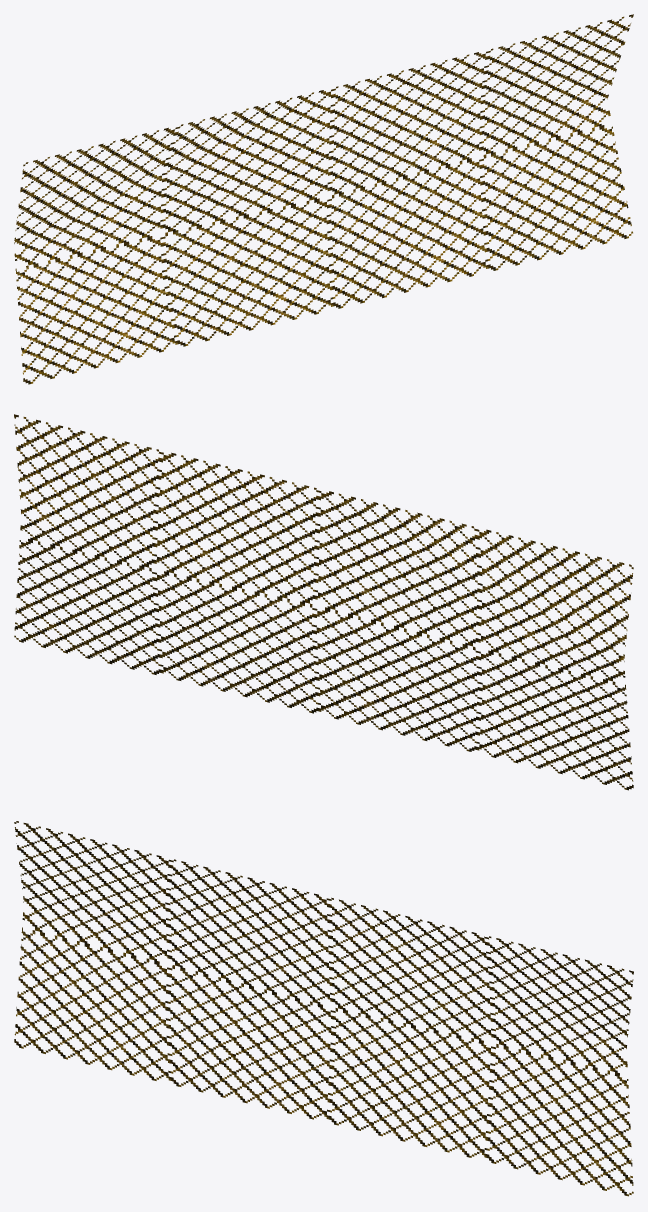
Rendered from W_A2r_xxxx_Verschoben_1835.glb.
3 views of the same model, one above another, from view 1: azimuth 30°, elevation 25°; view 2: azimuth 150°, elevation 25°; view 3: azimuth 330°, elevation 25° (orthographic).
Parts seen in each view (by area): view 1: polySurfaceShape787; view 2: polySurfaceShape787; view 3: polySurfaceShape787.
Boxes of the visible parts, x1,y1,x2,y2 form: polySurfaceShape787: (14, 14, 633, 384); polySurfaceShape787: (14, 414, 633, 790); polySurfaceShape787: (14, 821, 633, 1196).
Bounding box in the file's own units: 1 × 0.3486 × 0.0275.
Materials: 1 (1 with a texture image).
